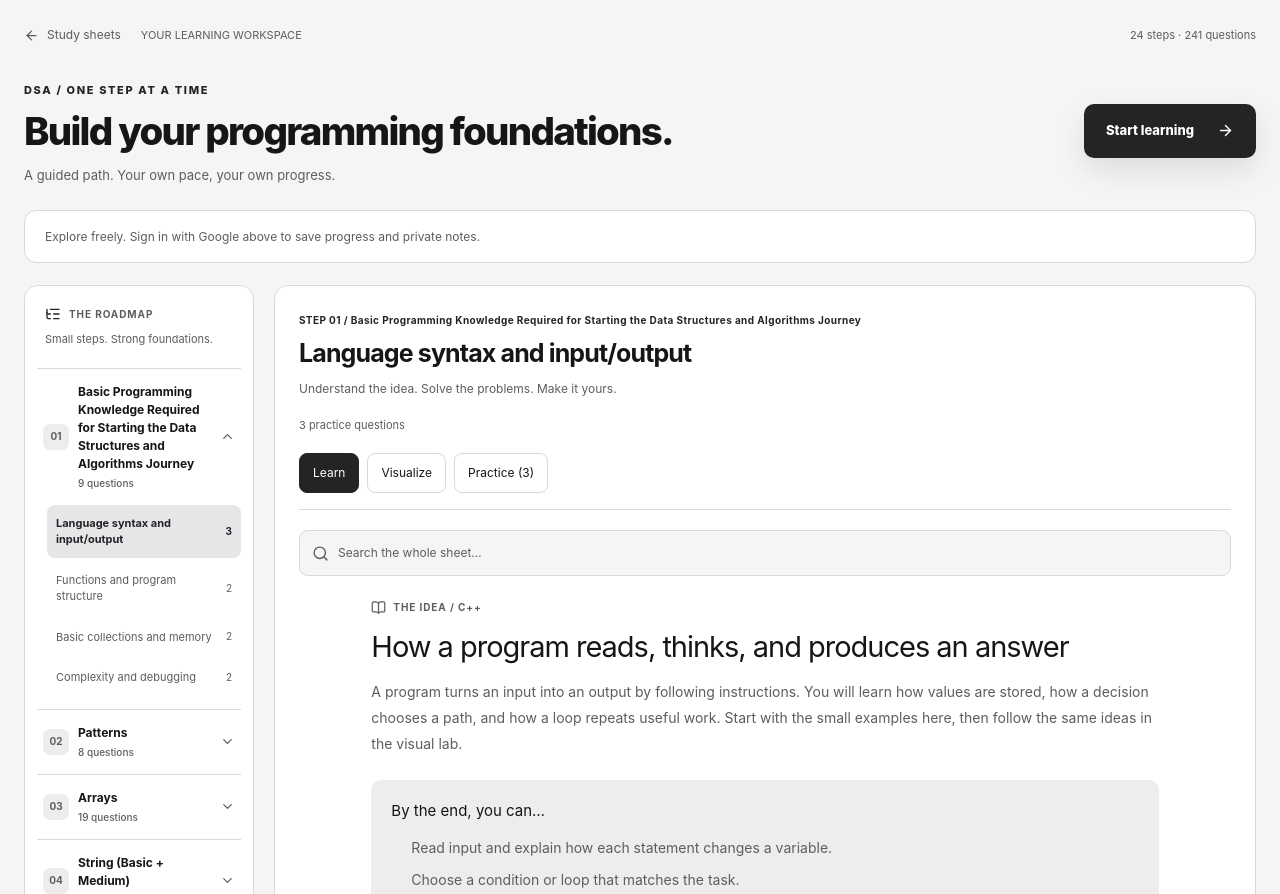
Learn → visualize → practice › keeps global search usable from Learn and routes a result in another step to practice
Type "Number of Islands" into the search field at x=778, y=553, box left=338, top=531, right=1218, bottom=575
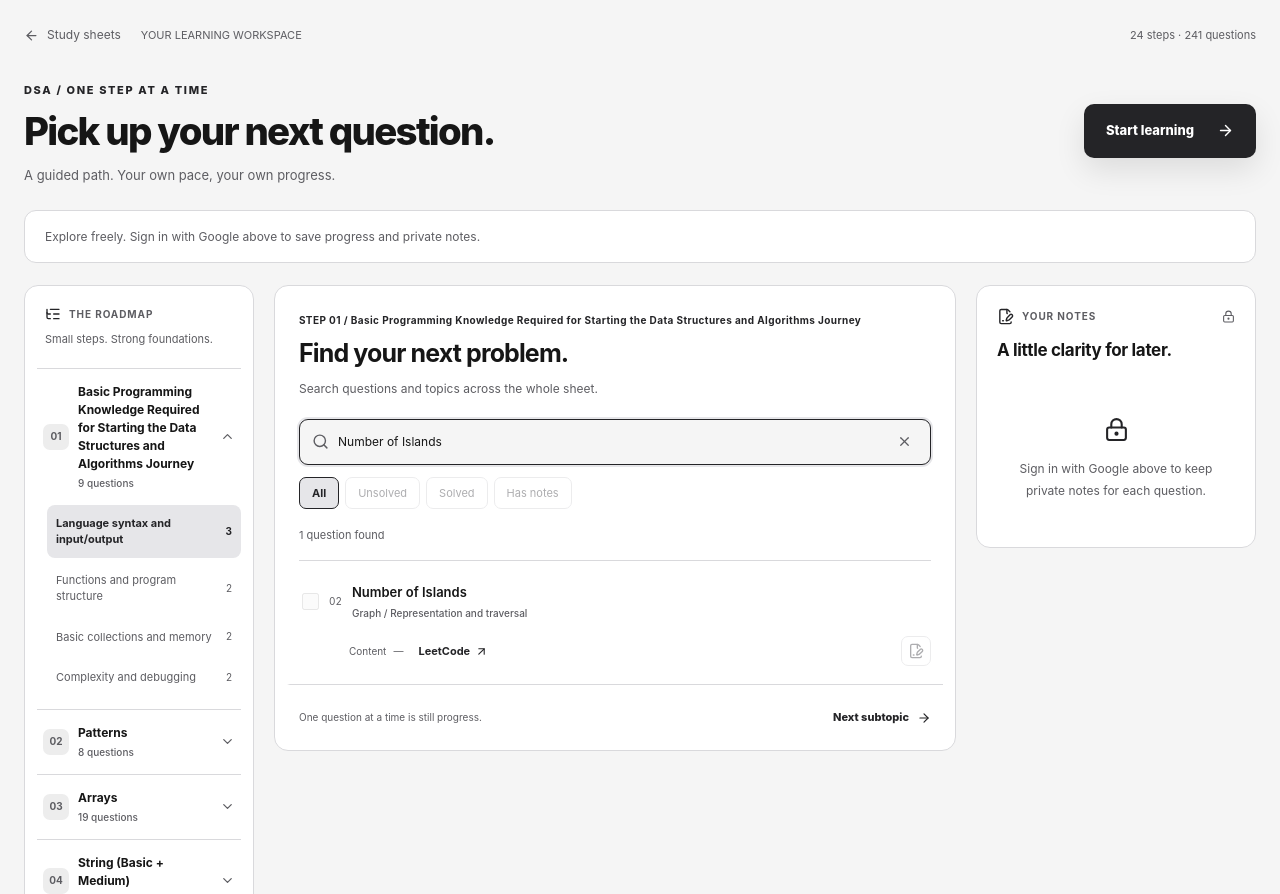
Now the heading "How a program reads, thinks, and produces an answer" is gone
Click the button "Number of Islands Graph / Representation and traversal" at x=409, y=592, box left=352, top=579, right=931, bottom=624
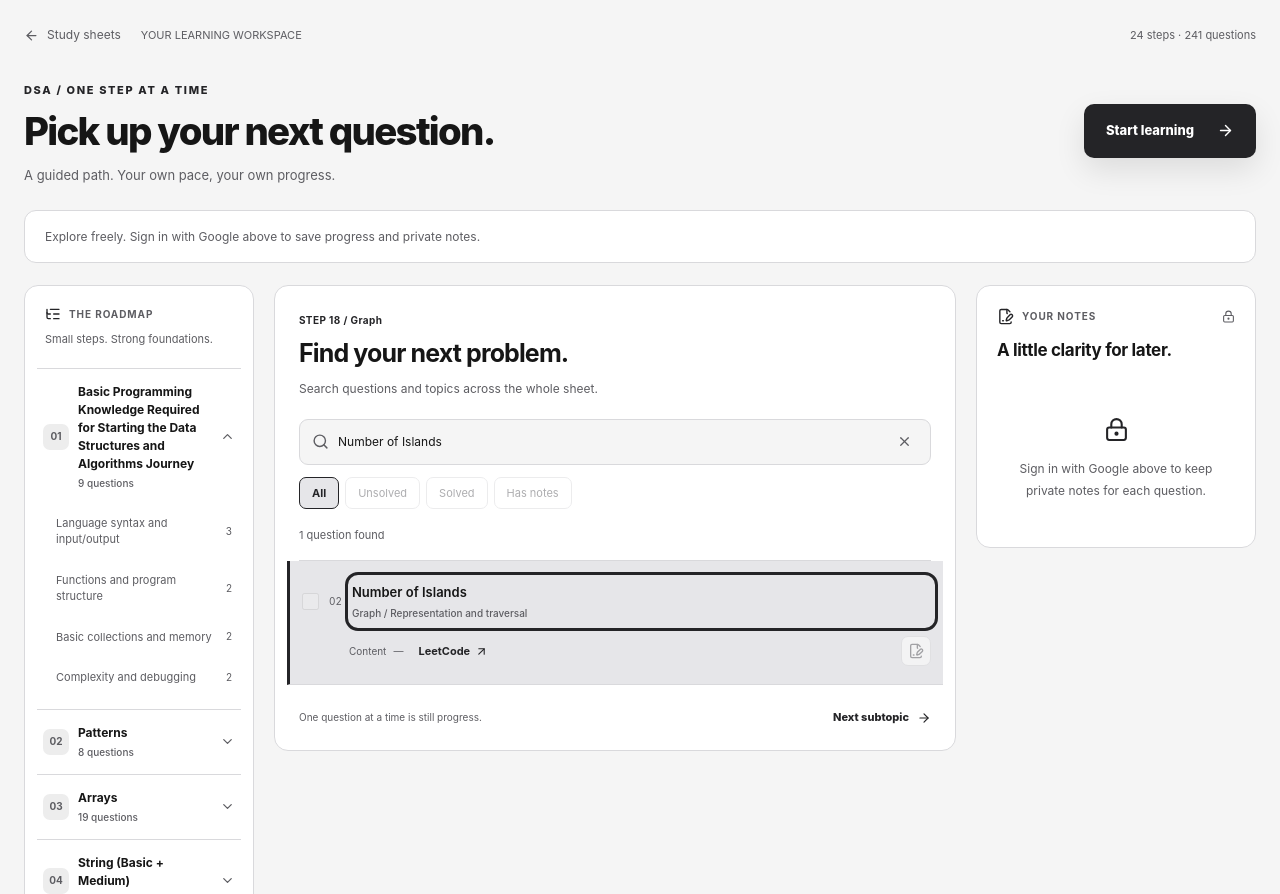
Click the button named "Clear search" at x=904, y=442, box left=890, top=426, right=918, bottom=458
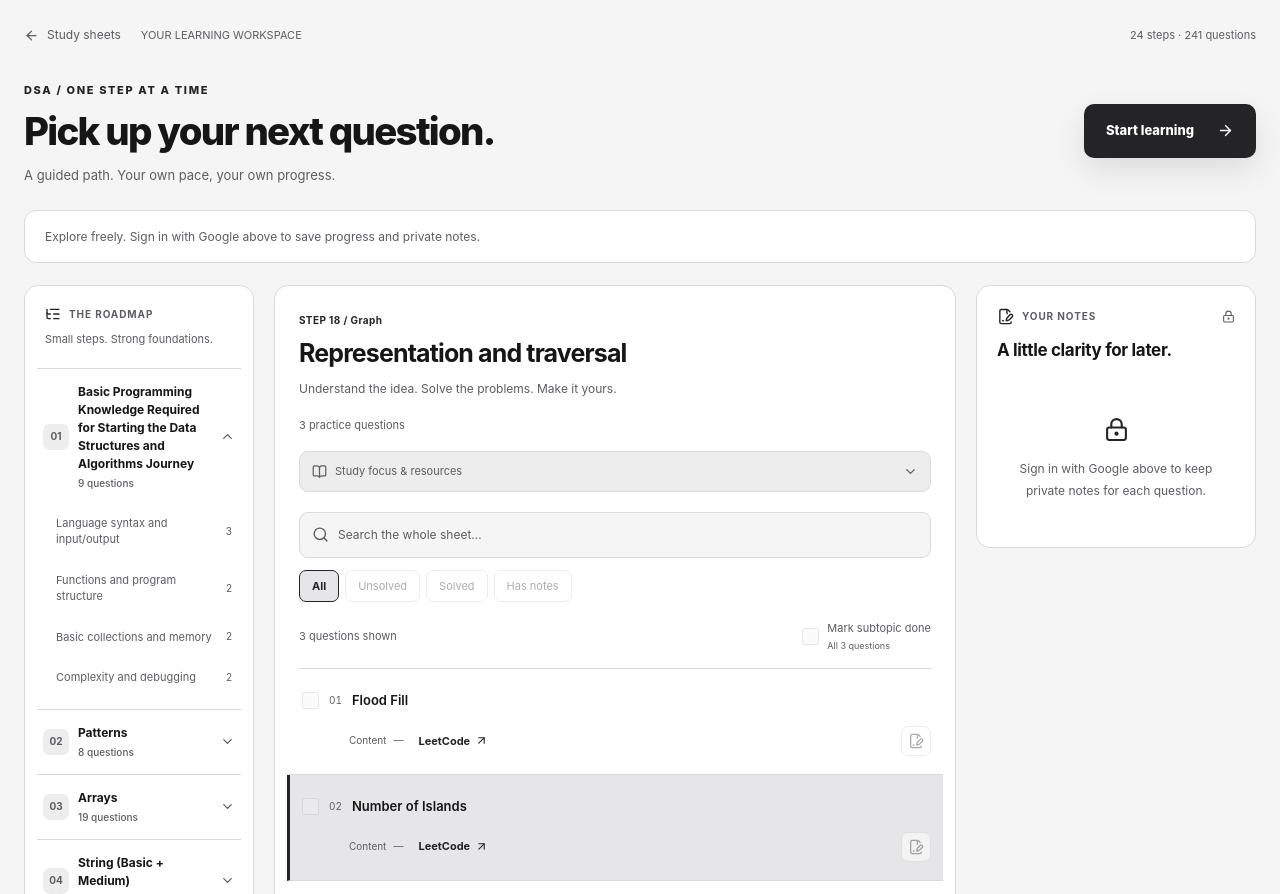
Now the heading "Representation and traversal" is shown, box left=299, top=338, right=626, bottom=368
